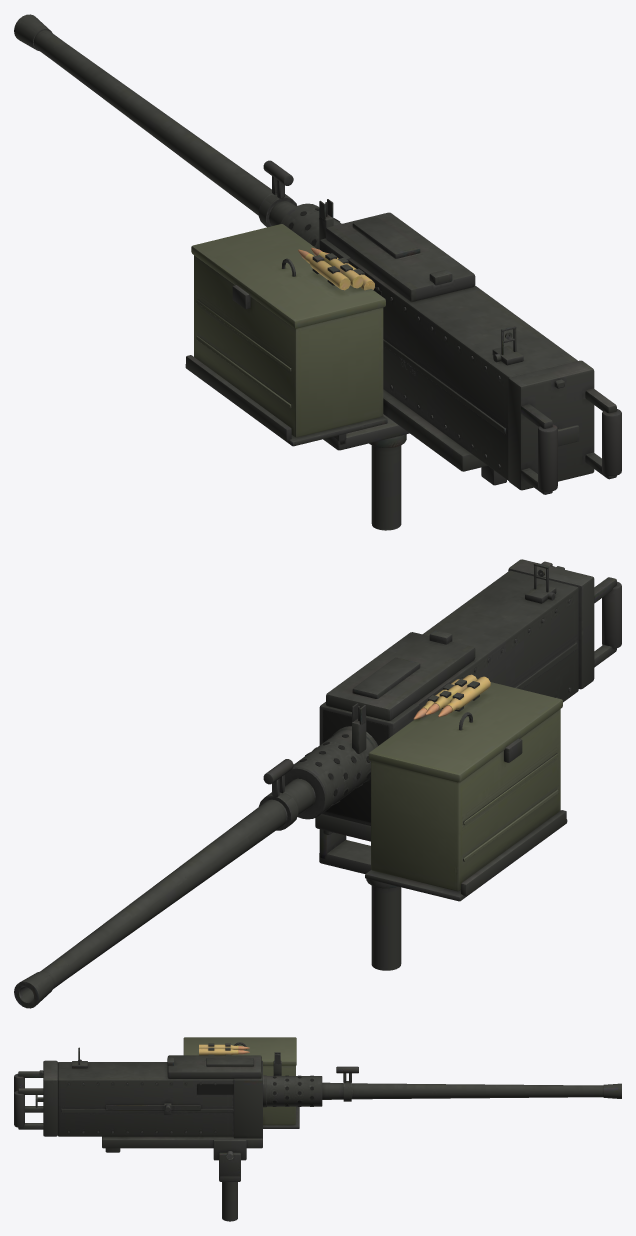
3 views of the same model, one above another, from view 1: azimuth 30°, elevation 25°; view 2: azimuth 150°, elevation 25°; view 3: azimuth 270°, elevation 25° (orthographic). The views are drawn at different scales.
Visible parts, largest first — view 1: body, box, cover; view 2: body, box, cover; view 3: body, box, cover.
Part boxes in pixels (box(x1,y1,x2,y2)): body: box(14, 14, 621, 530); box: box(191, 224, 385, 437); cover: box(326, 212, 475, 301); body: box(14, 559, 621, 1008); box: box(368, 674, 562, 891); cover: box(326, 630, 475, 720); body: box(14, 1047, 621, 1221); box: box(183, 1037, 296, 1124); cover: box(167, 1055, 261, 1078).
Size of the model in its own units: 0.342 by 0.495 by 1.66.
2 materials, 2 textured.
